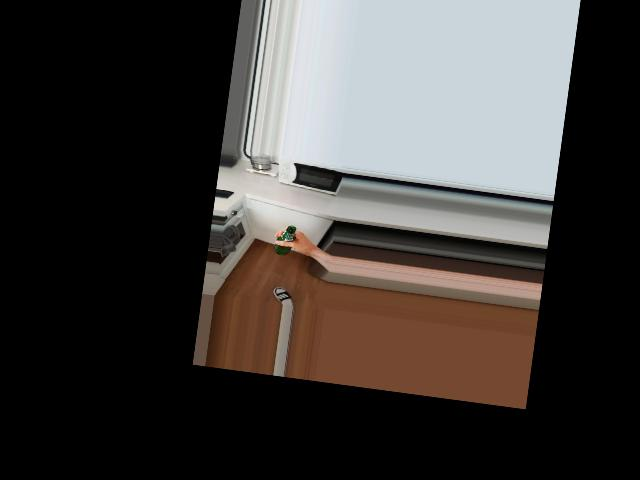beer: (273, 224, 296, 257)
